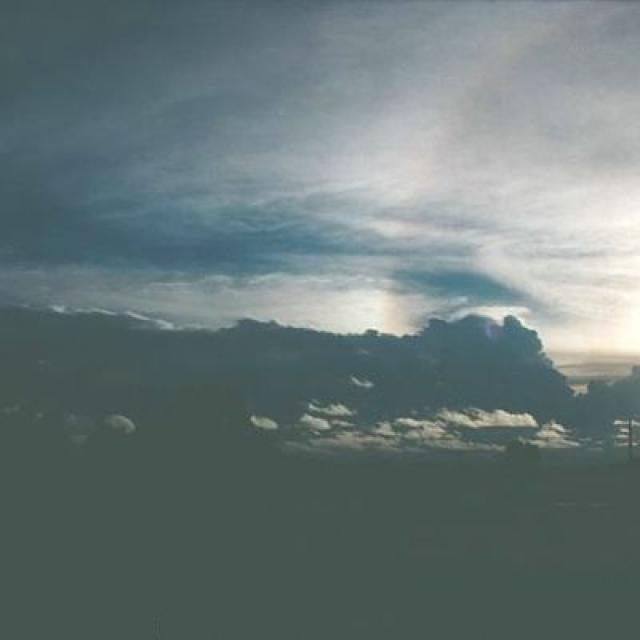St: (1, 38, 640, 541)
